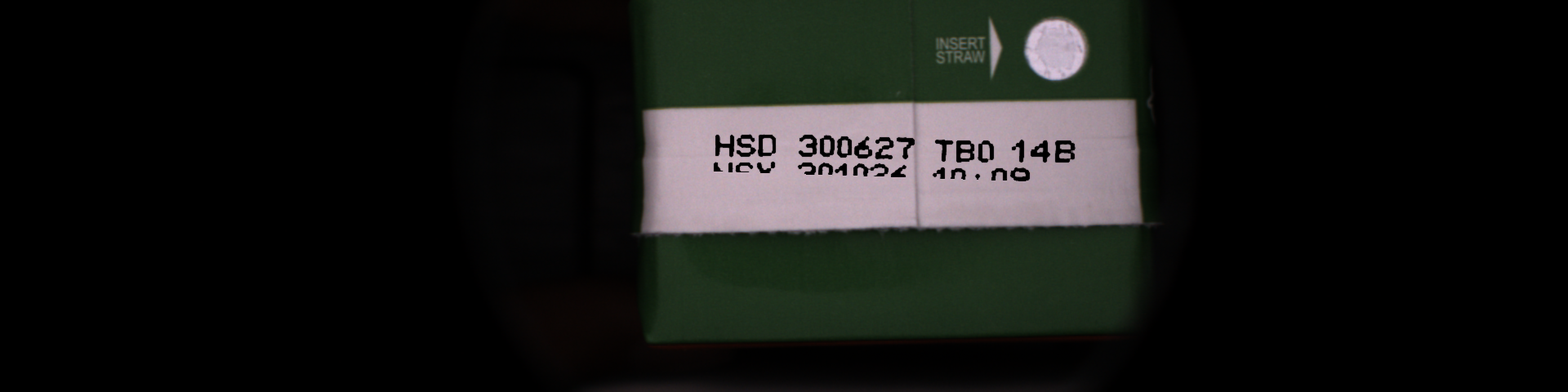date: (1044, 140, 1069, 169), (1020, 139, 1044, 167), (746, 161, 770, 189), (881, 163, 904, 192), (886, 137, 910, 164), (726, 134, 749, 162), (1000, 167, 1023, 195), (701, 161, 725, 187), (704, 134, 727, 161), (923, 139, 946, 166), (865, 136, 887, 164), (946, 140, 968, 168), (787, 162, 809, 190), (859, 163, 881, 191), (788, 134, 809, 161), (845, 137, 865, 165), (967, 140, 988, 166), (725, 162, 745, 188), (809, 135, 827, 163), (749, 134, 768, 160), (808, 162, 826, 189), (842, 163, 860, 190), (981, 168, 999, 195), (1002, 140, 1019, 168), (940, 168, 959, 193), (828, 136, 844, 163), (923, 168, 939, 194), (826, 163, 841, 190), (962, 169, 976, 192)
